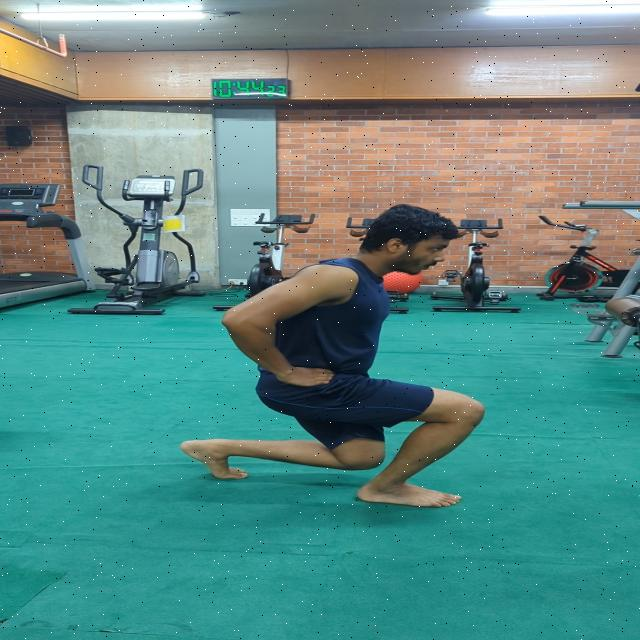Normal_Lunges: (179, 198, 491, 508)
